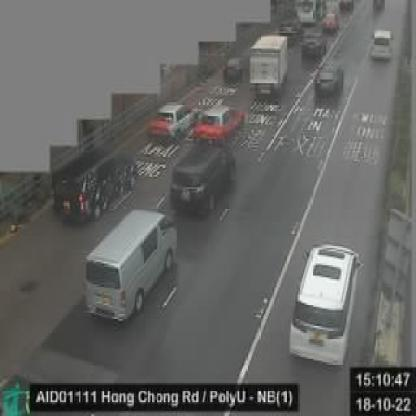Car: (81, 207, 179, 328), (287, 242, 363, 367), (51, 144, 138, 226), (168, 142, 237, 219), (192, 99, 245, 148), (146, 97, 196, 142), (314, 63, 346, 99), (300, 26, 328, 62), (368, 28, 394, 63), (223, 54, 247, 83), (320, 10, 340, 35), (338, 0, 356, 14)
Truck: (249, 34, 290, 103)
